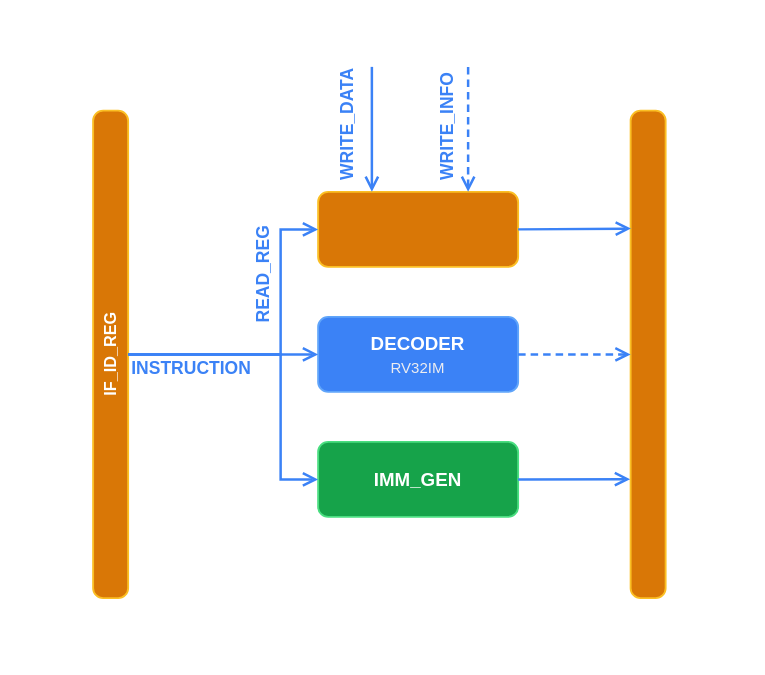
Some shapes in this 765 by 675 pixel diagram are drawn without their labels. Each missing label, with the box of its shape:
ID_EX_REG: (629, 109, 666, 598)
REGISTER 32 x 32: (317, 190, 518, 267)
